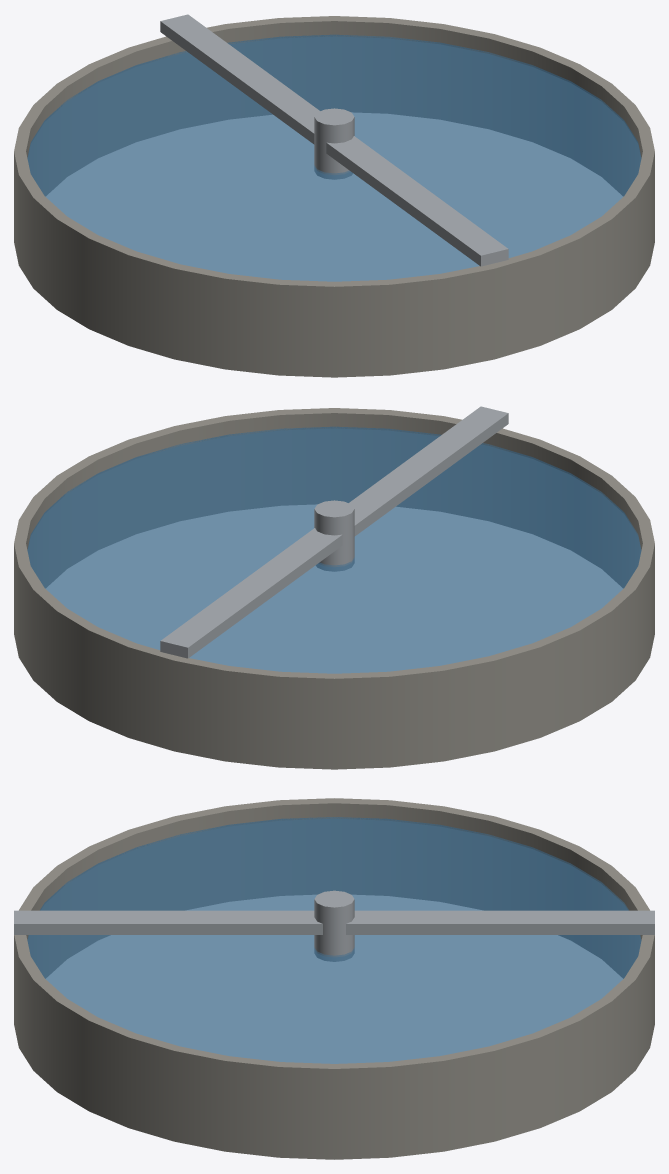
File: water.plant.settlement_tank.glb
3 renders of one model, top to bottom at view 1: azimuth 30°, elevation 25°; view 2: azimuth 150°, elevation 25°; view 3: azimuth 270°, elevation 25°, orthographic.
Visible parts, largest first — view 1: main__concrete, main__water, main__steel_galvanised; view 2: main__concrete, main__water, main__steel_galvanised; view 3: main__concrete, main__water, main__steel_galvanised.
Boxes of the visible parts, bbox=[...] form: main__concrete: bbox=[14, 16, 654, 377]; main__water: bbox=[27, 34, 641, 281]; main__steel_galvanised: bbox=[160, 14, 508, 266]; main__concrete: bbox=[14, 408, 654, 769]; main__water: bbox=[27, 426, 641, 673]; main__steel_galvanised: bbox=[160, 406, 508, 658]; main__concrete: bbox=[14, 798, 654, 1159]; main__water: bbox=[27, 817, 641, 1063]; main__steel_galvanised: bbox=[14, 890, 654, 961].
Size of the model in its own units: 16 by 3.45 by 16.
